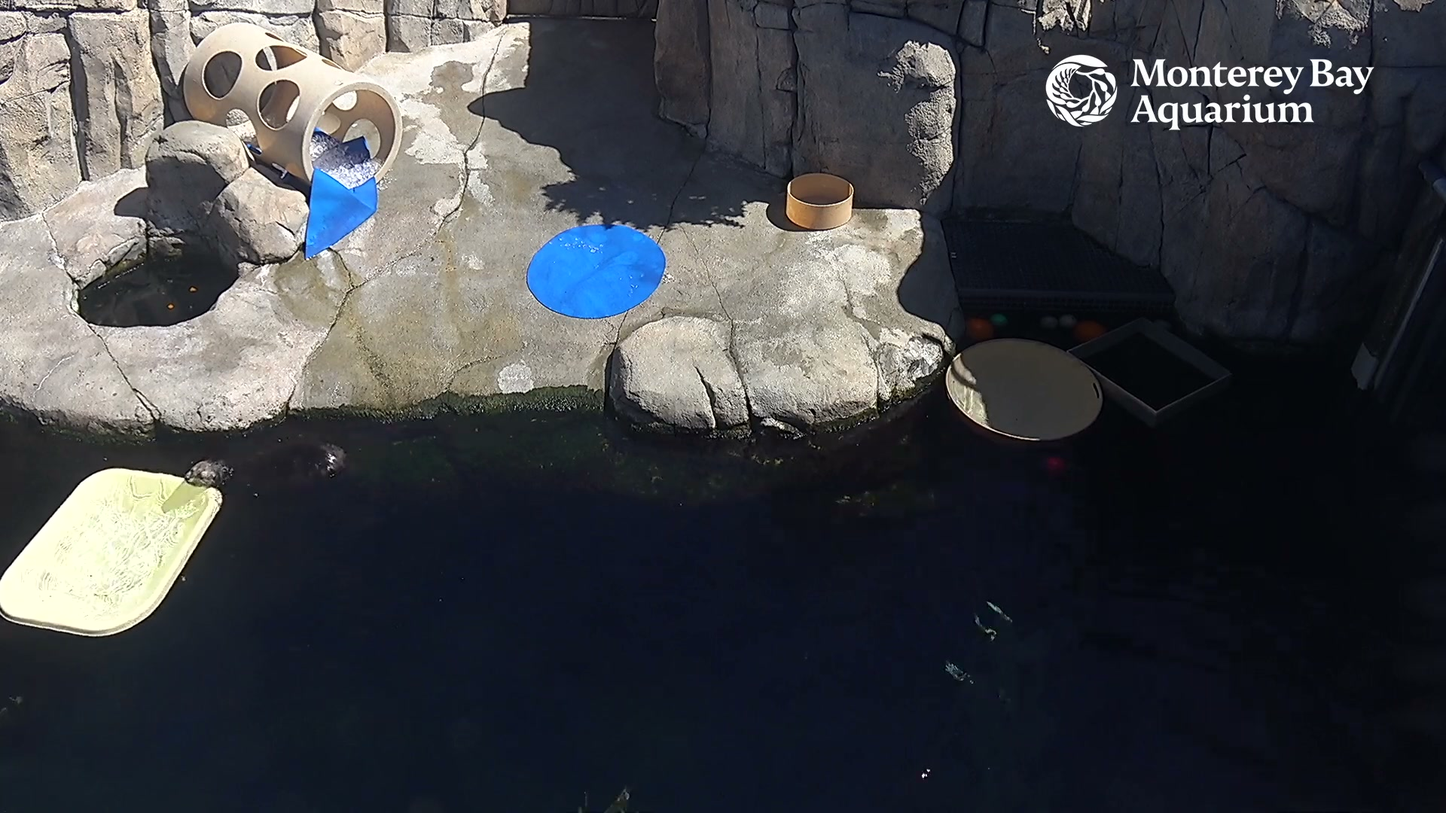Southern Sea Otter: (170, 423, 390, 517)
